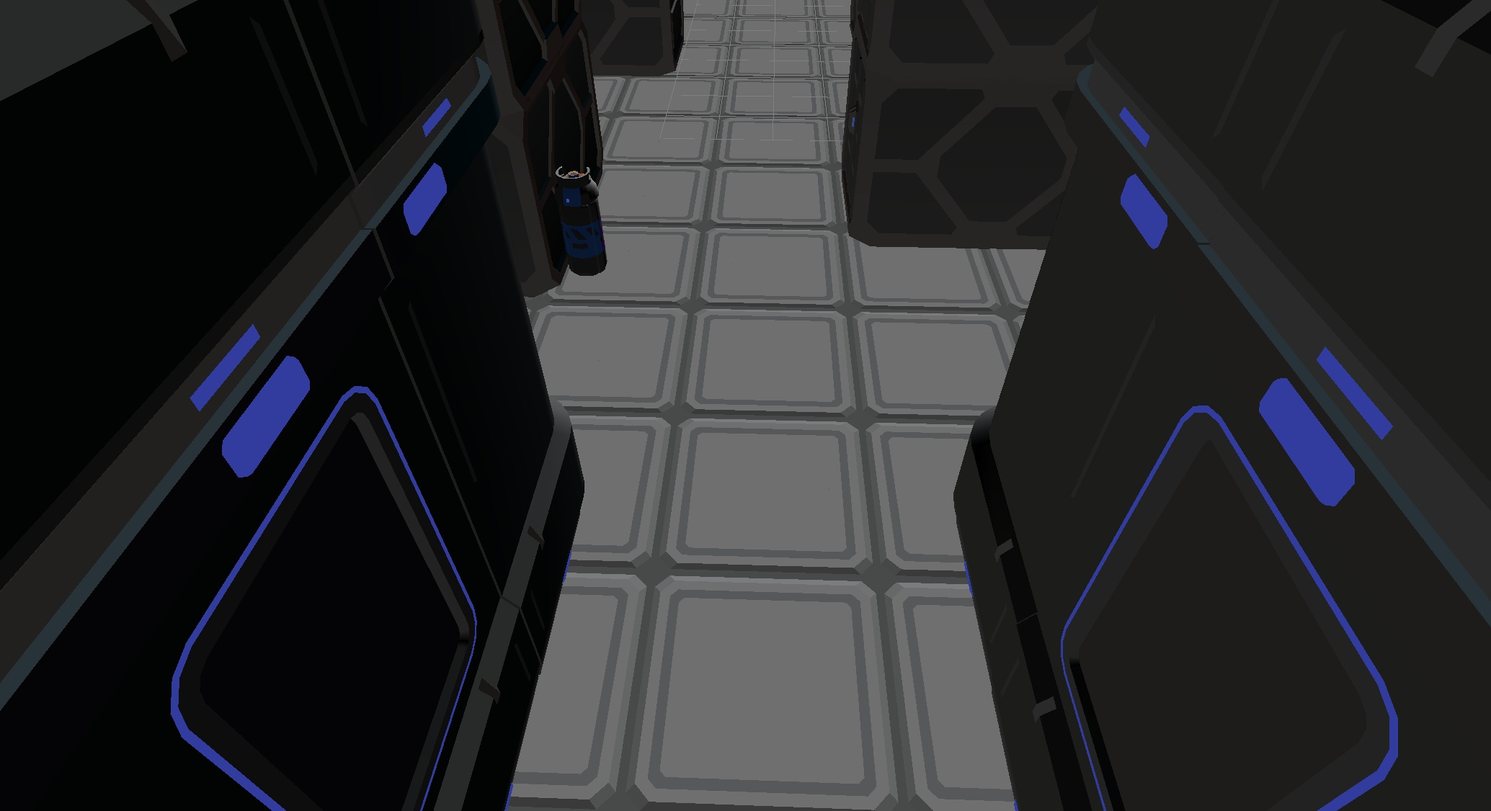yellow_barrel: (553, 168, 606, 275)
